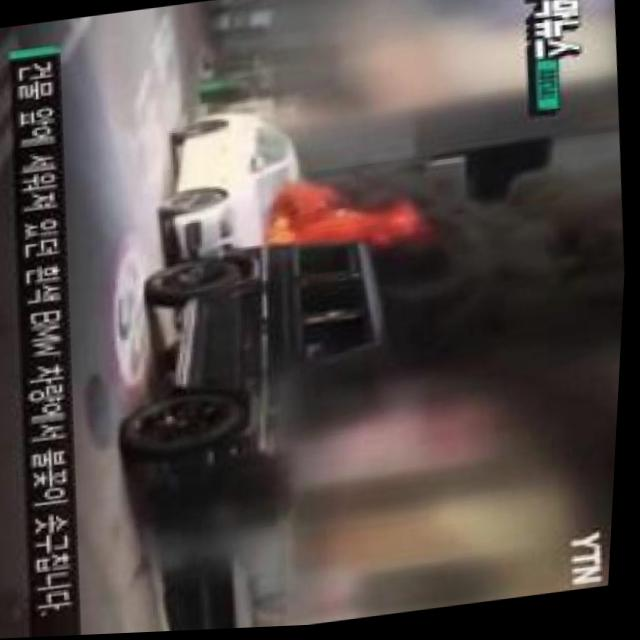Fire: (258, 194, 333, 252)
